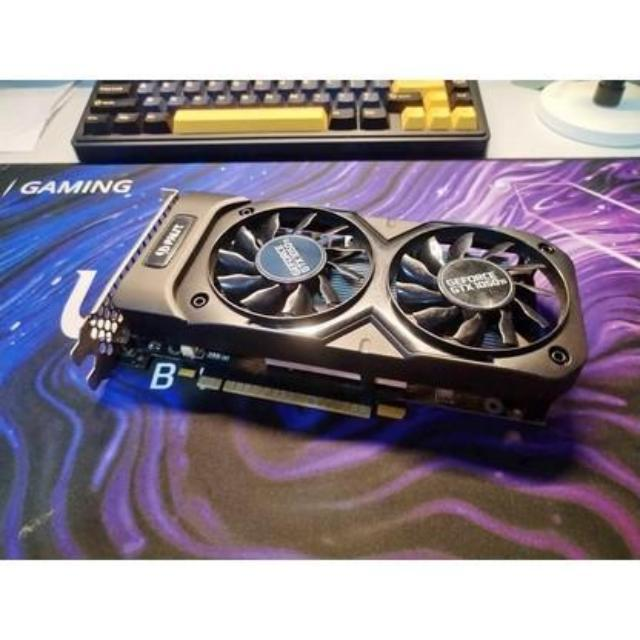GPU: (90, 181, 598, 459)
